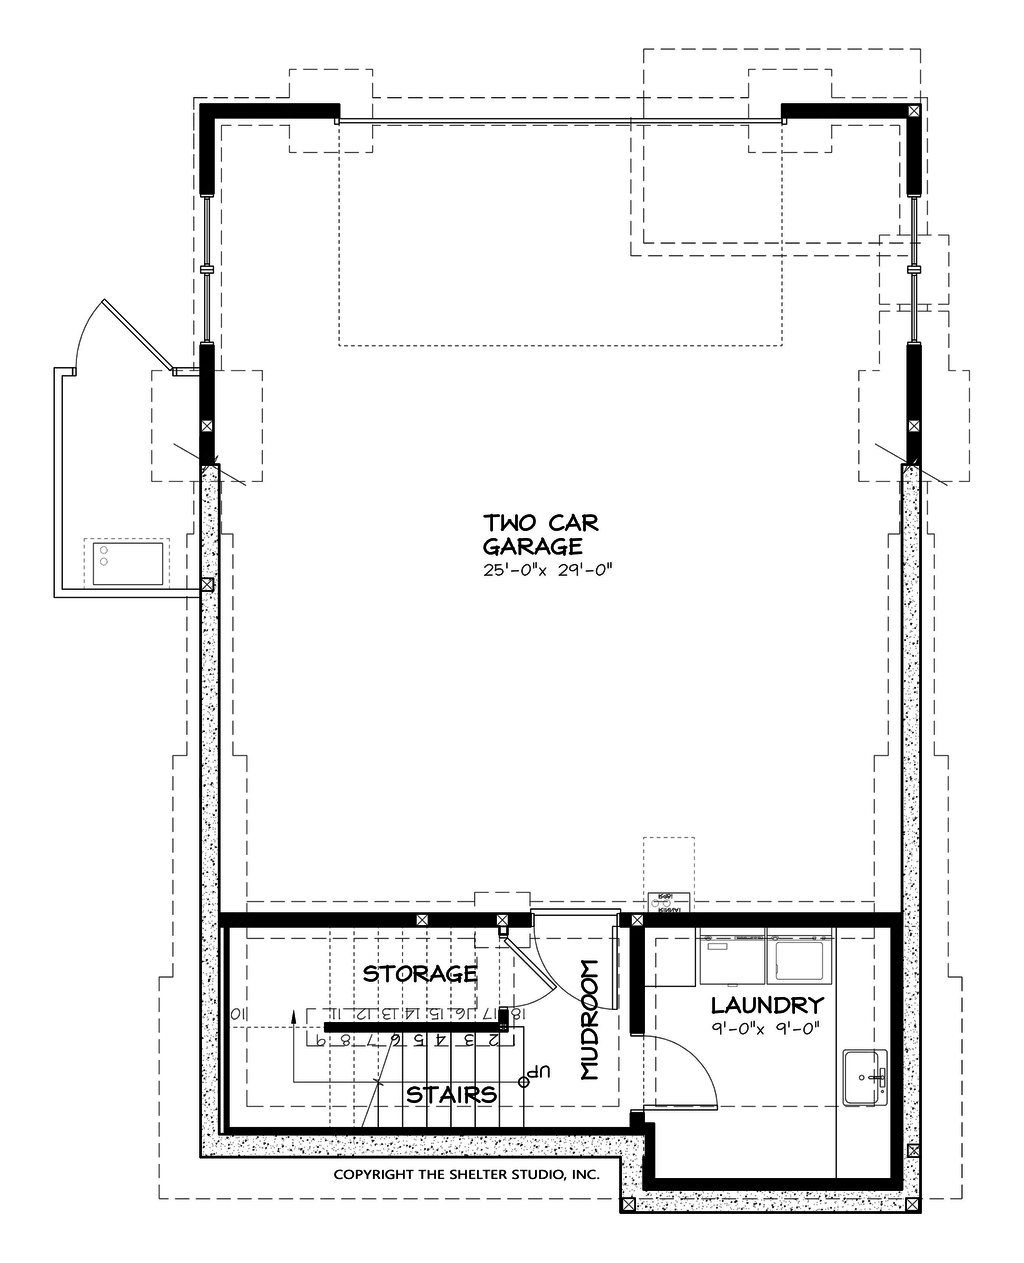door: (49, 294, 174, 379), (531, 909, 622, 1015), (626, 1038, 724, 1117), (495, 932, 556, 1013)
stairs: (230, 932, 526, 1142)
